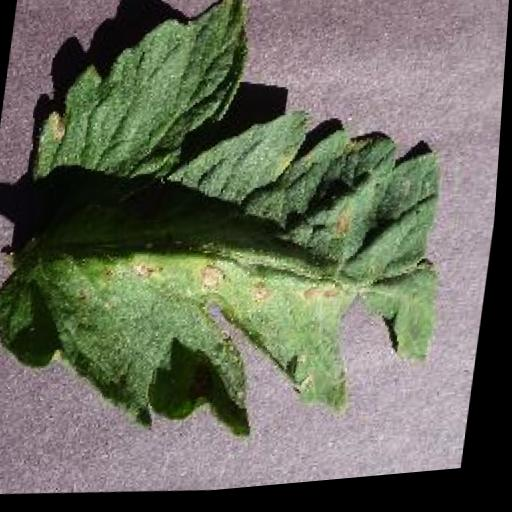Early Blight: (0, 0, 487, 454)
